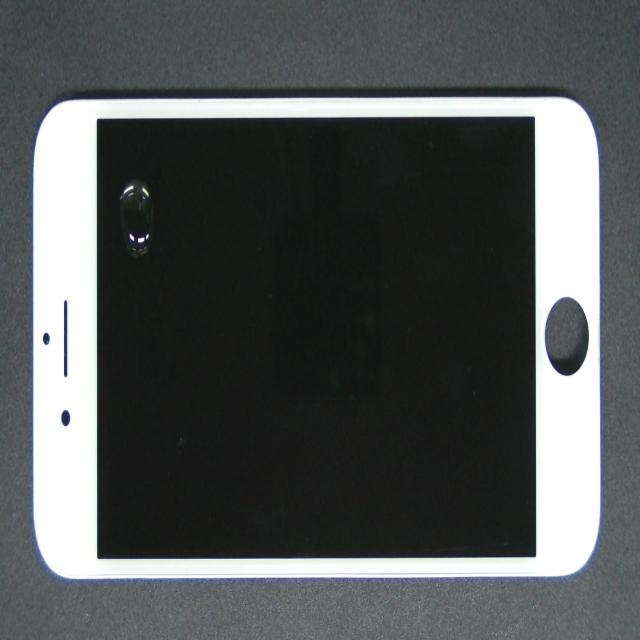oil: (81, 150, 232, 328)
